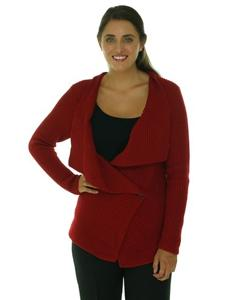C_cardigan sweater: (23, 66, 212, 279)
